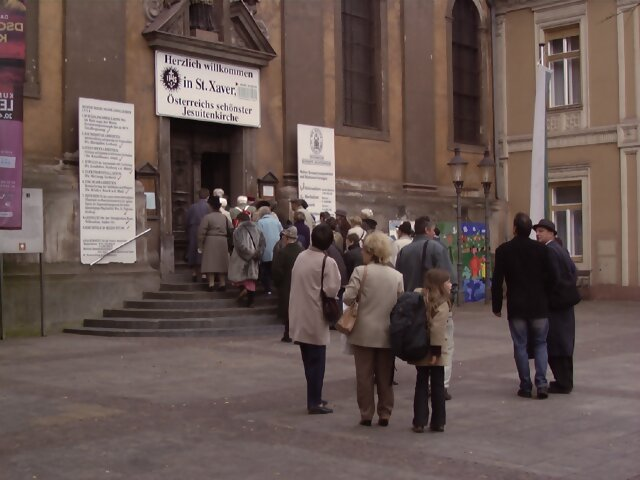person: (284, 222, 347, 417), (490, 210, 554, 394), (349, 232, 402, 418)
